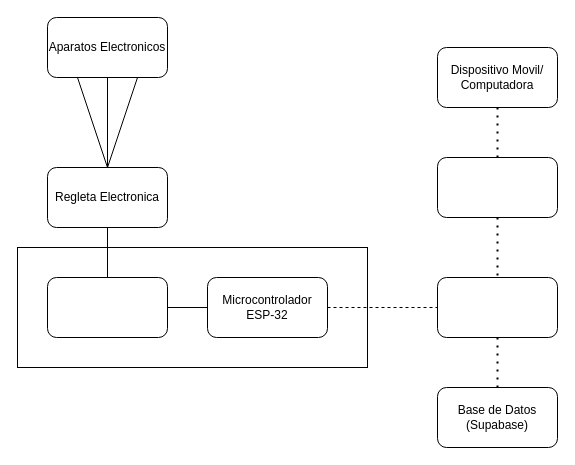
The diagram is 575 pixels wide and 465 high, and some of its shapes have lost their labels. Each missing label, with the centre of its shape:
BaackEnd (Nestjs): the point at 497,307
FrontEnd (React)/ (Androd Studio ): the point at 497,187
Sensores: ZMPT101B (Voltaje) SCT-013 (Corriente ): the point at 107,307
